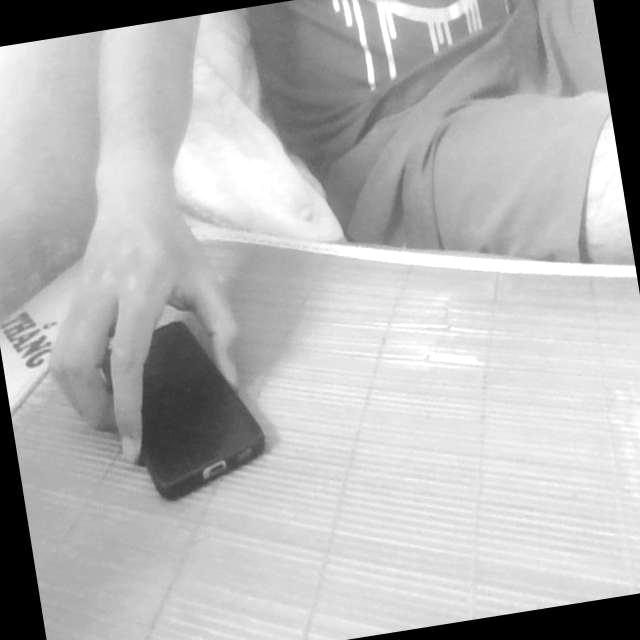phone: (86, 282, 288, 528)
